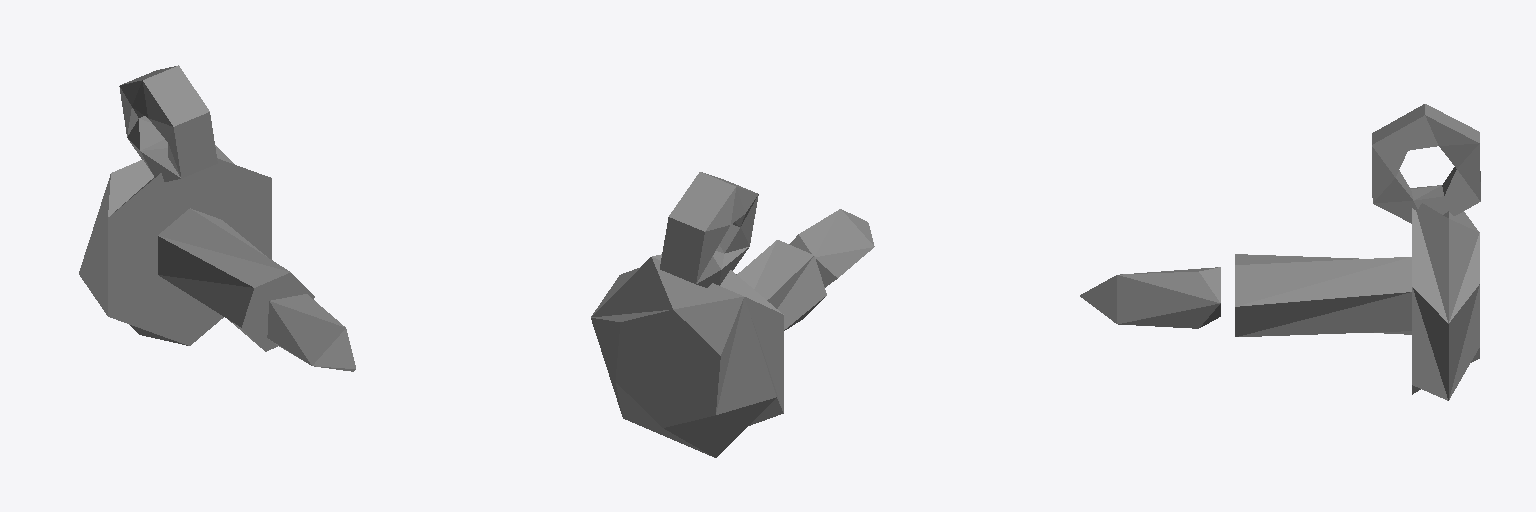
File: Prop_Candle.obj
3 renders of one model, left to right at view 1: azimuth 30°, elevation 25°; view 2: azimuth 150°, elevation 25°; view 3: azimuth 270°, elevation 25°, orthographic.
Visible parts, largest first — view 1: initialShadingGroup_polySurface24; view 2: initialShadingGroup_polySurface24; view 3: initialShadingGroup_polySurface24.
Part boxes in pixels (left/top/right/bottom): initialShadingGroup_polySurface24: left=79, top=65, right=355, bottom=371; initialShadingGroup_polySurface24: left=591, top=172, right=874, bottom=457; initialShadingGroup_polySurface24: left=1080, top=104, right=1480, bottom=400.
Size of the model in its own units: 5.91 by 8.41 by 11.04.